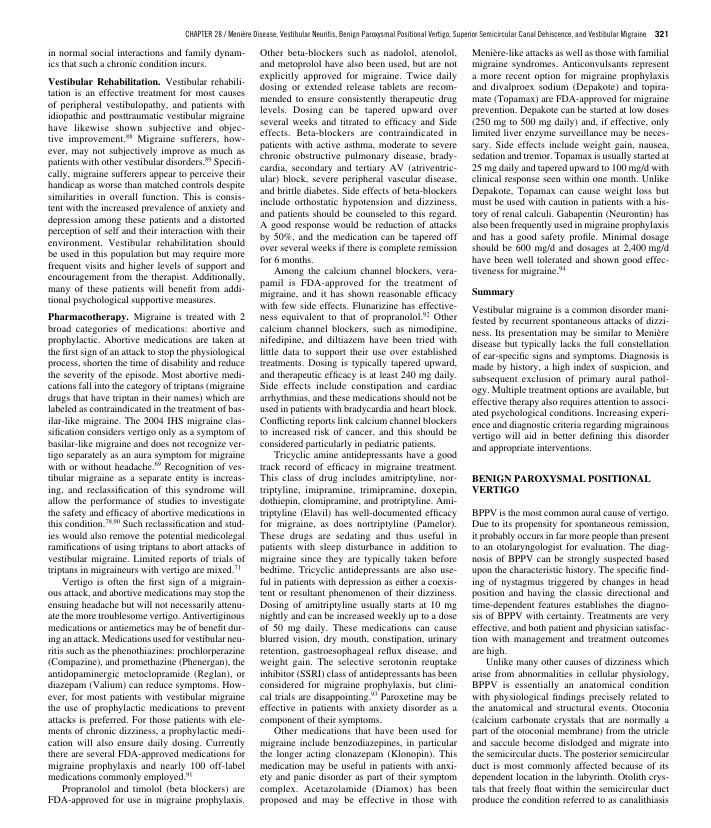header: (184, 29, 647, 39)
section-heading: (470, 472, 652, 495)
sub-section-heading: (48, 76, 162, 87), (48, 311, 129, 323), (470, 286, 515, 298)
text: (259, 48, 459, 807), (47, 311, 247, 807), (470, 506, 671, 806), (470, 46, 671, 278), (47, 76, 246, 306), (470, 303, 670, 456), (47, 47, 247, 69)
